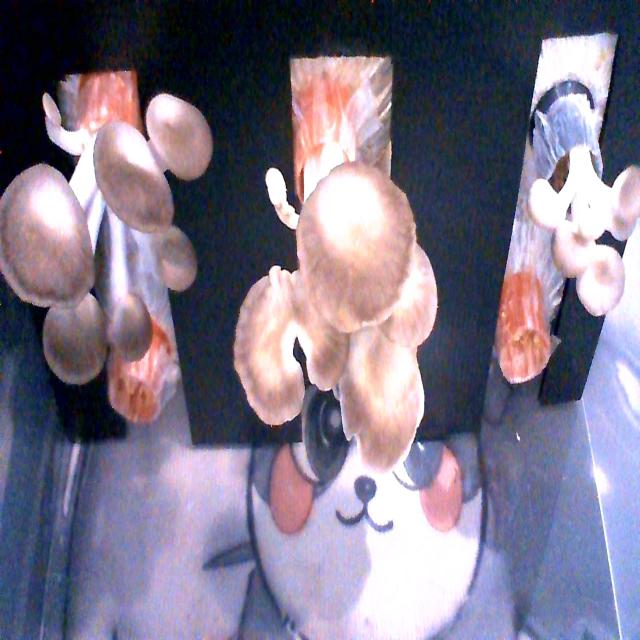big: (245, 148, 451, 478), (0, 77, 212, 394)
nfound: (505, 299, 563, 406), (102, 343, 174, 429)
small: (526, 148, 640, 320)
